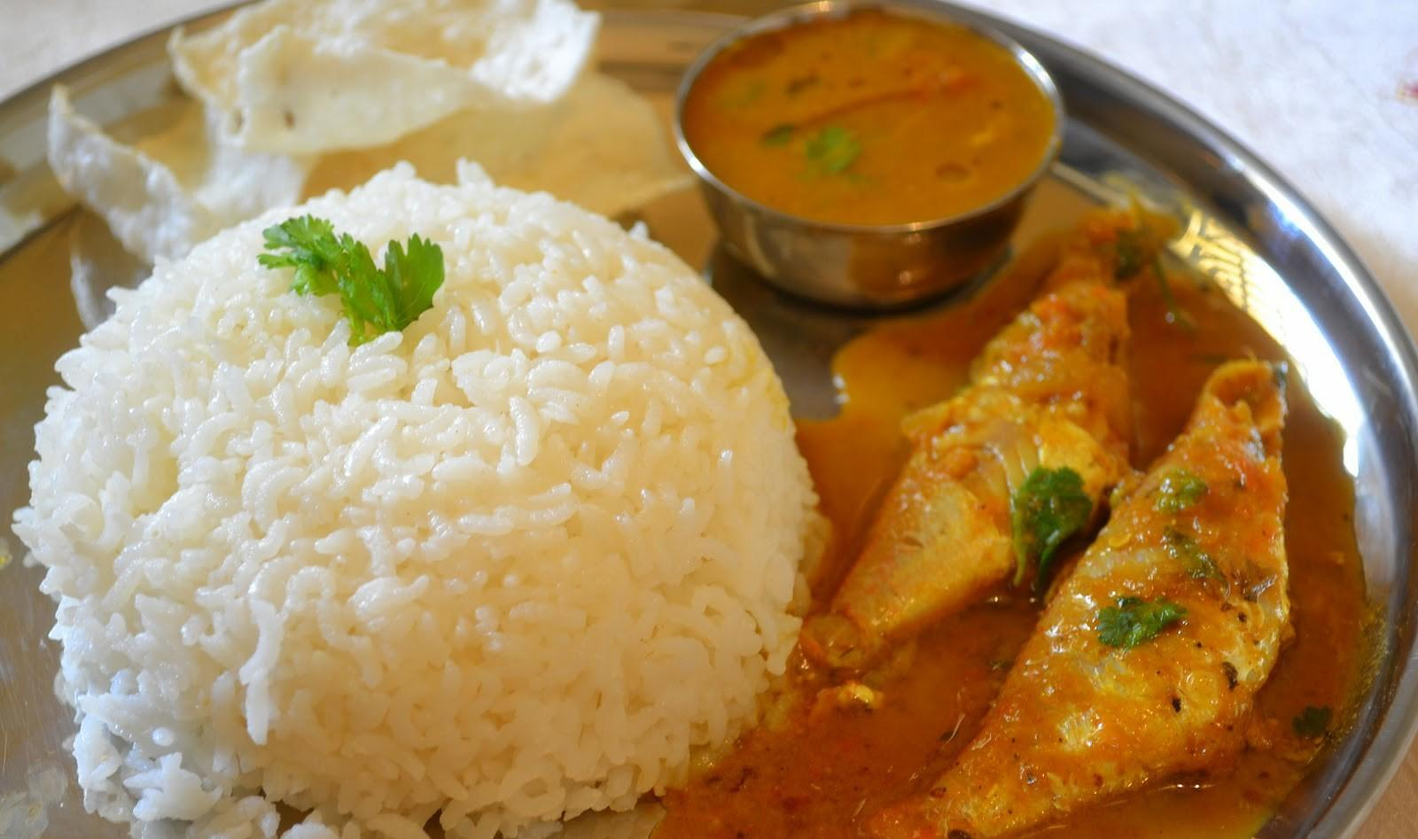FishCurry: (633, 195, 1375, 839), (685, 5, 1059, 222)
